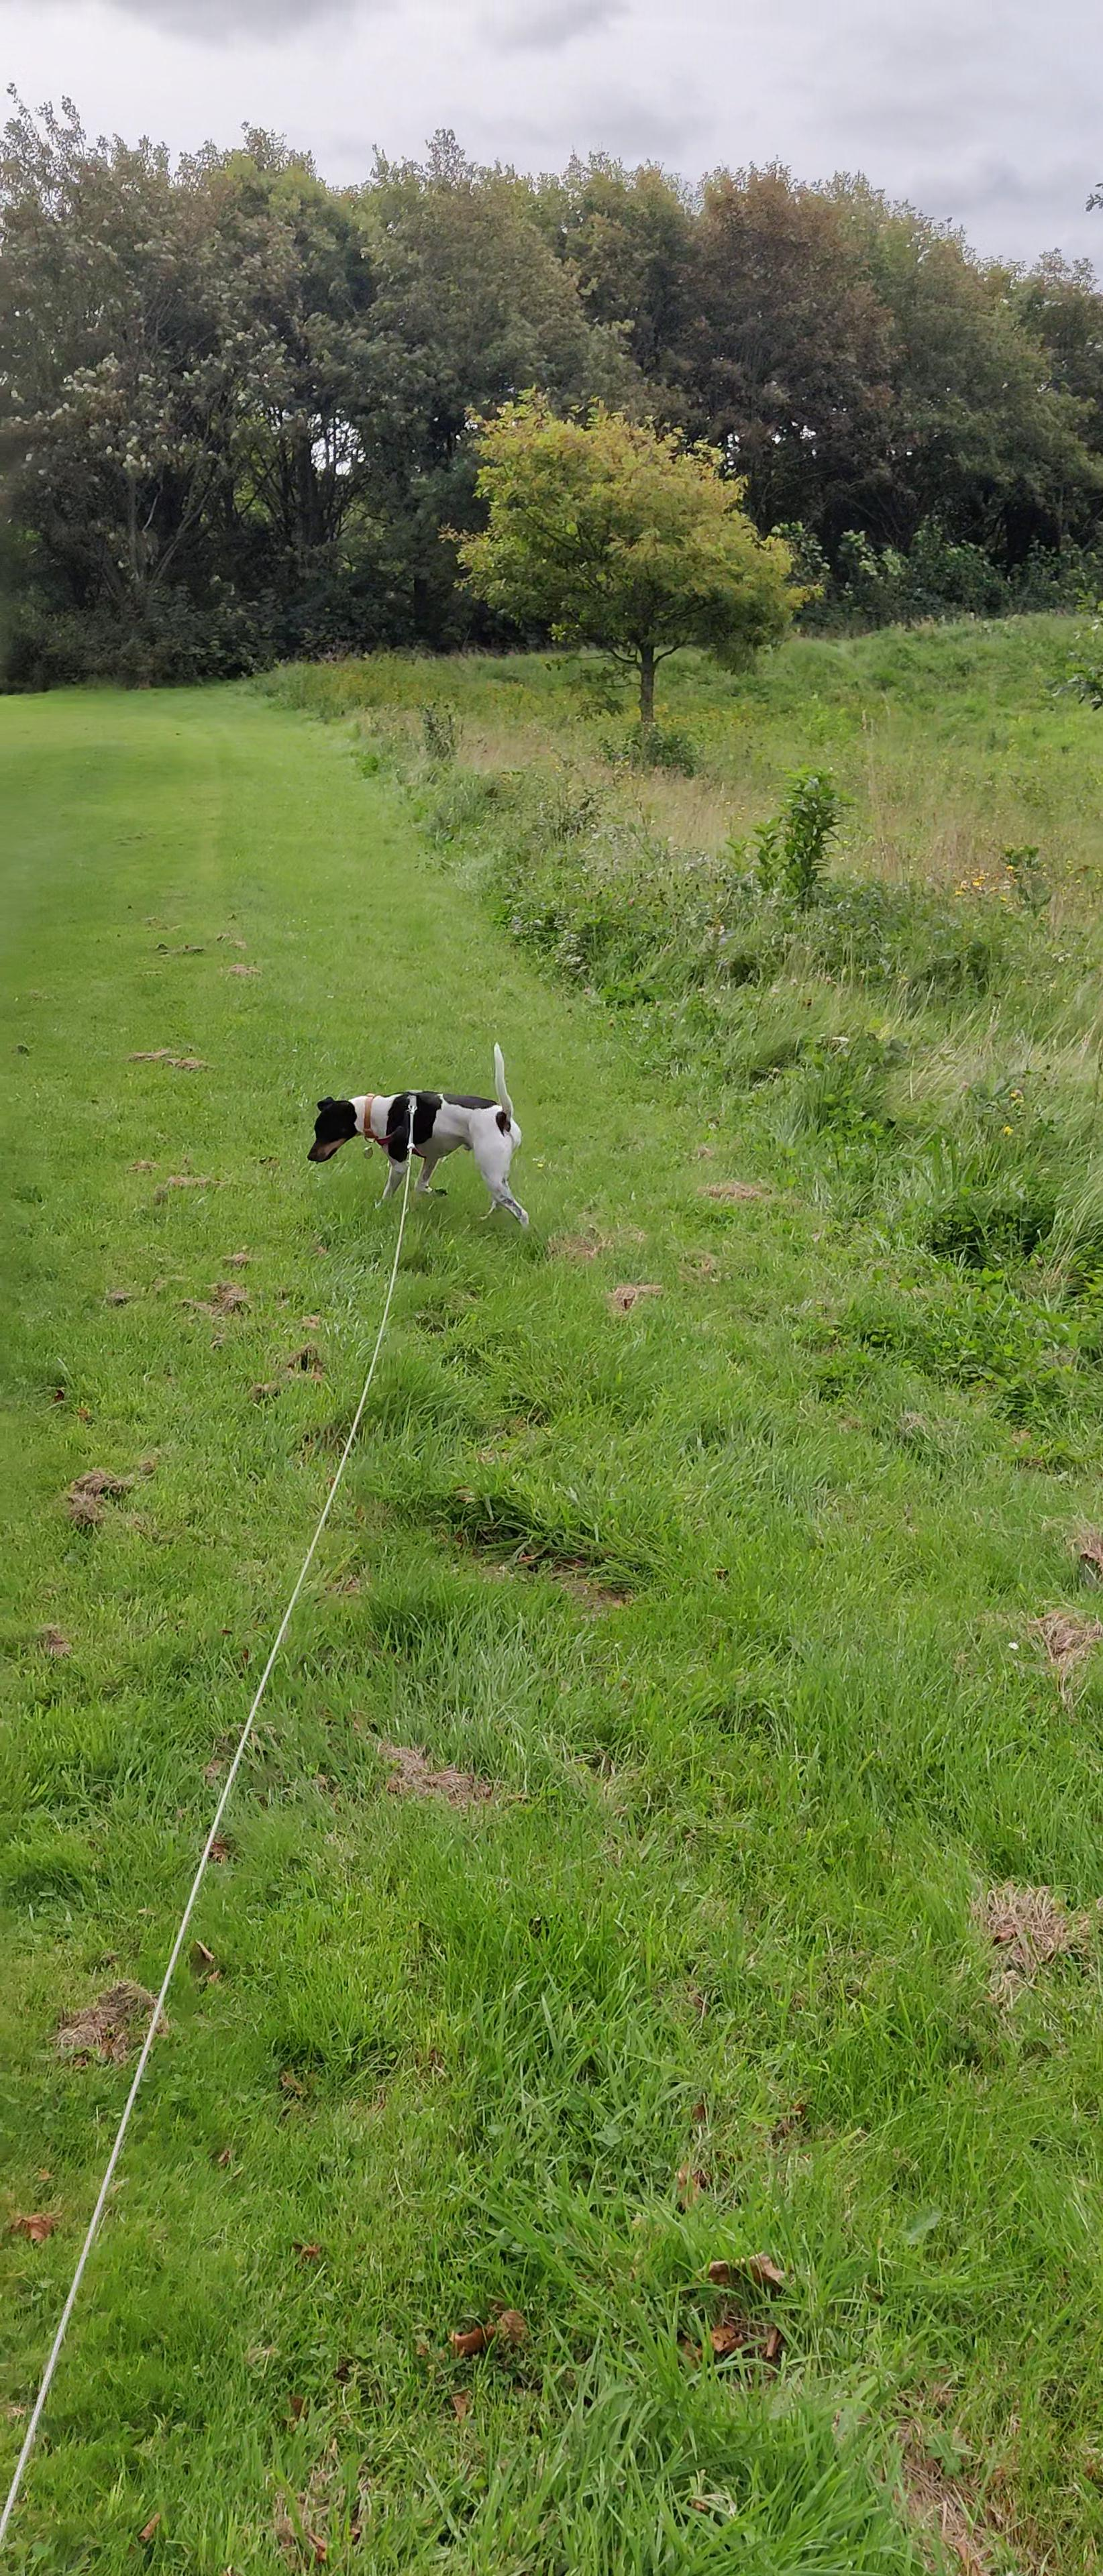Dog: (279, 1037, 551, 1234)
